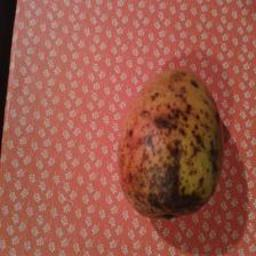Mango Rotten: (119, 52, 220, 223)
